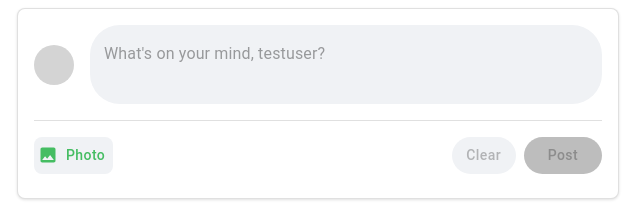
Scenario: CreatePost Component › enables clear button when content exists
Type "Test content" into the text box with placeholder "What's on your mind, testuser?" at {"x": 346, "y": 64}, box [104,42,588,88]
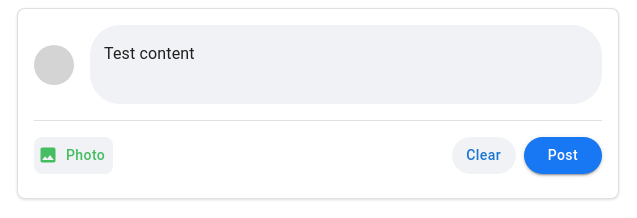
Expected: the button "Clear" is enabled, [452,137,516,174]
